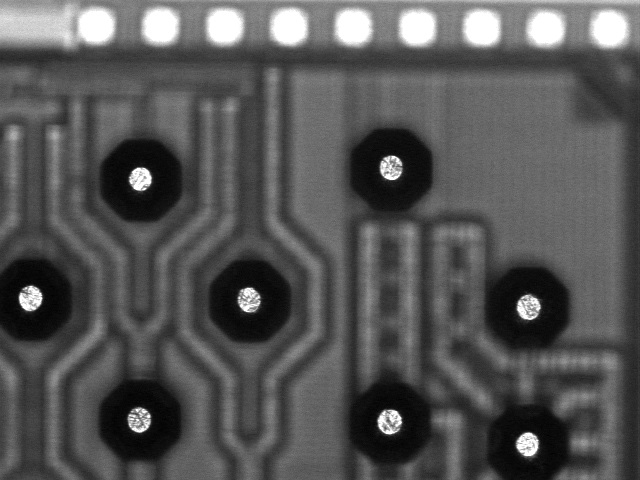normal: (93, 132, 188, 226), (92, 374, 187, 468), (201, 253, 296, 347), (344, 121, 439, 215), (479, 259, 574, 353), (339, 374, 434, 468), (480, 396, 576, 480), (1, 253, 77, 346)
